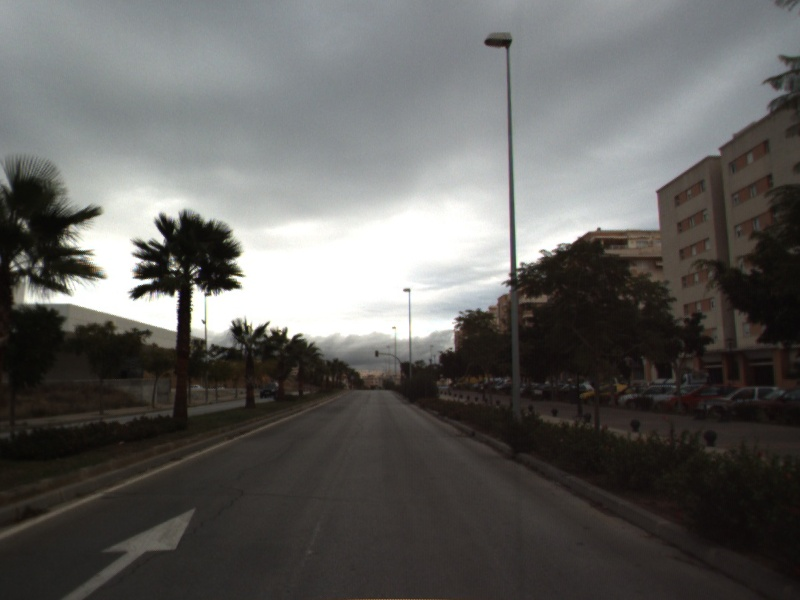STRAIGHT: (58, 506, 198, 600)
